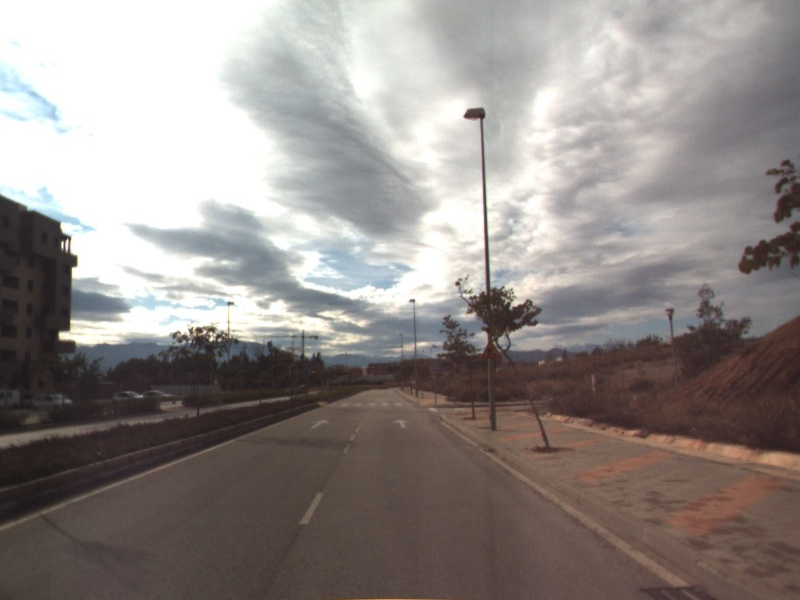STRAIGHT: (307, 417, 332, 431), (392, 417, 411, 430)
